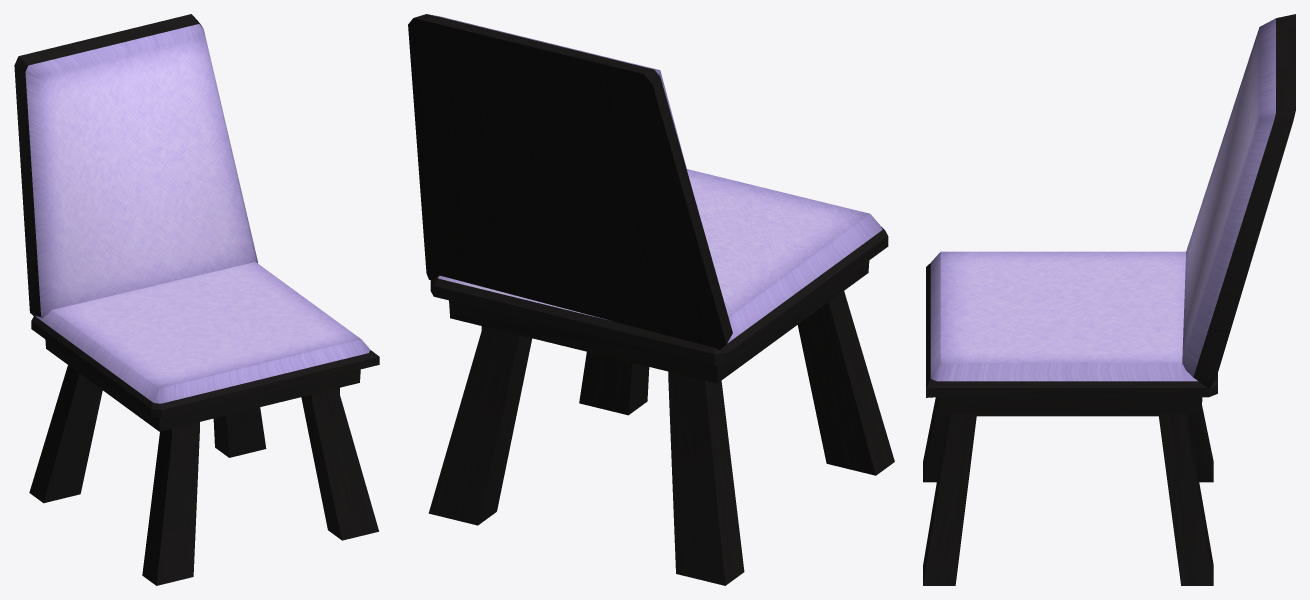
Rendered from Dining_Room_Chair_G.FBX.
3 renders of one model, left to right at view 1: azimuth 30°, elevation 25°; view 2: azimuth 150°, elevation 25°; view 3: azimuth 270°, elevation 25°, orthographic. The views are drawn at different scales.
Parts seen in each view (by area): view 1: Dining_Chair; view 2: Dining_Chair; view 3: Dining_Chair.
Part boxes in pixels (x1,y1,x2,y2): Dining_Chair: (14, 14, 379, 585); Dining_Chair: (408, 14, 894, 585); Dining_Chair: (923, 14, 1295, 585).
Bounding box in the file's own units: 121 × 208 × 152.
